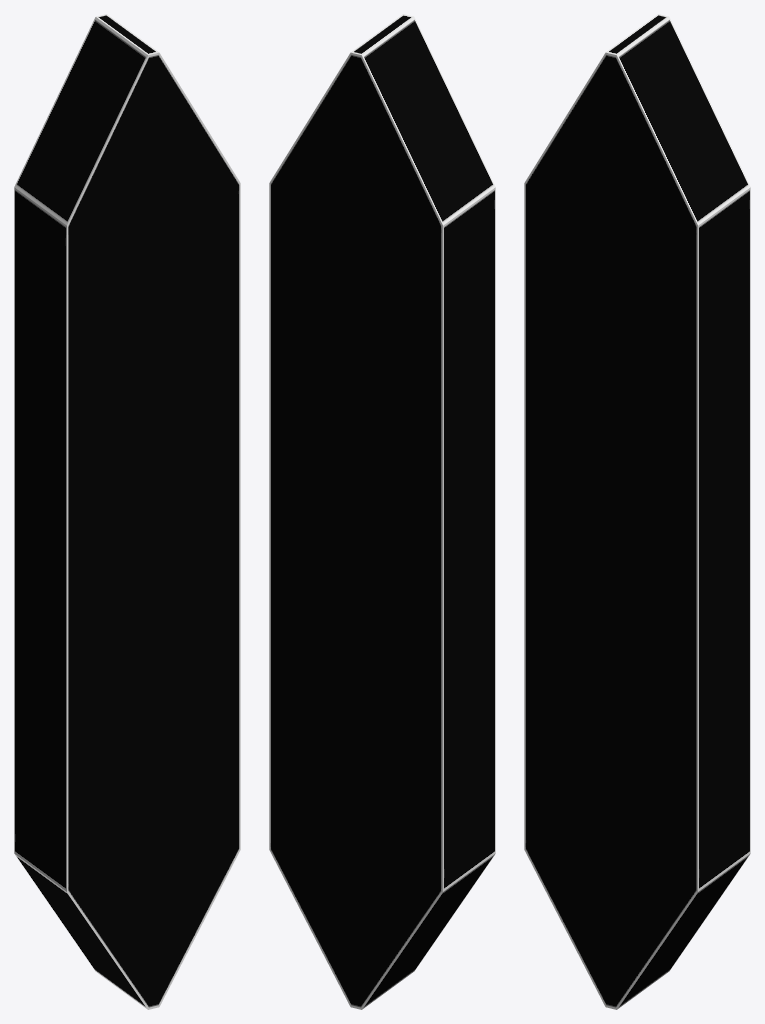
The model's file is CenterObstacle.fbx.
The picture shows the model from 3 angles, left to right: view 1: azimuth 30°, elevation 25°; view 2: azimuth 150°, elevation 25°; view 3: azimuth 330°, elevation 25°; orthographic projection.
Visible parts, largest first — view 1: CenterObstacle; view 2: CenterObstacle; view 3: CenterObstacle.
Part boxes in pixels (x1,y1,x2,y2): CenterObstacle: (14,14,240,1009); CenterObstacle: (269,14,495,1009); CenterObstacle: (524,14,750,1009).
Size of the model in its own units: 57.19 by 300 by 30.
